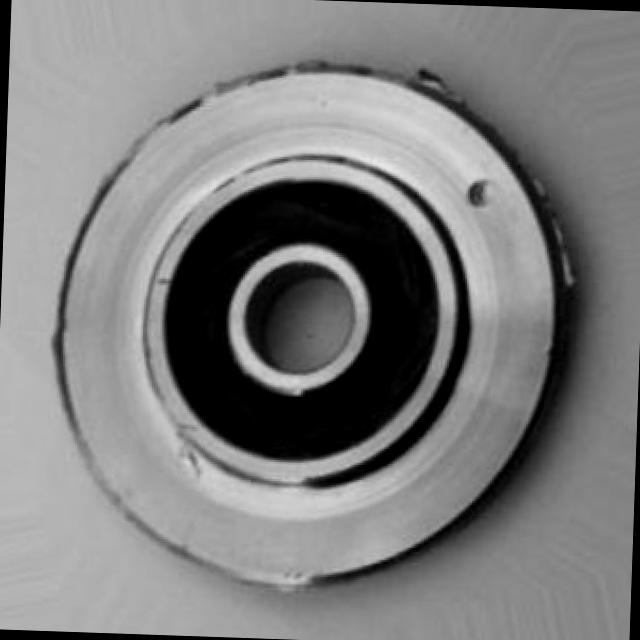Defect: (459, 171, 505, 208)
